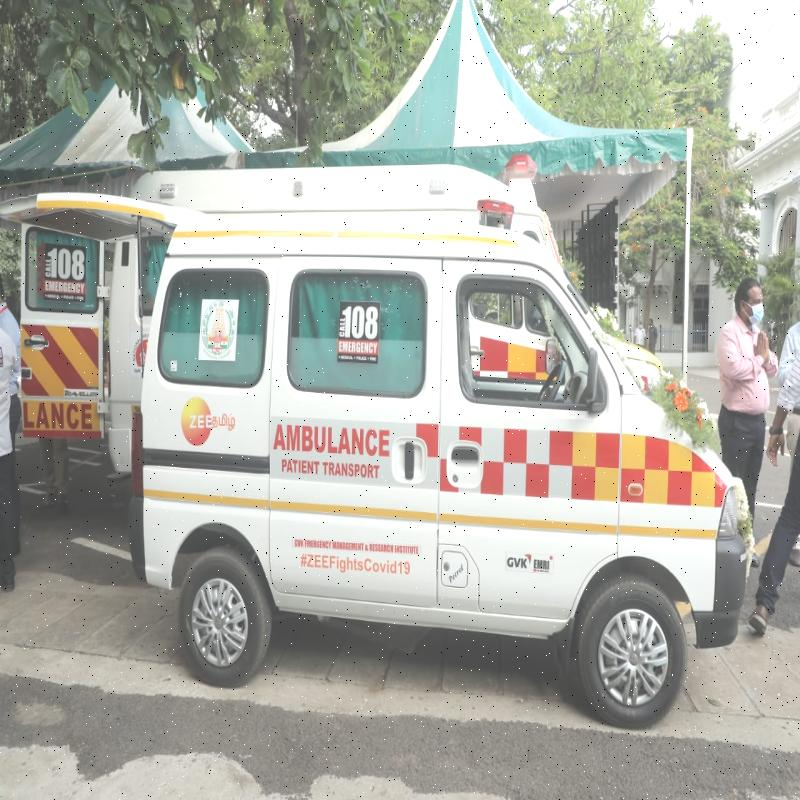ambulance: (152, 222, 734, 721)
